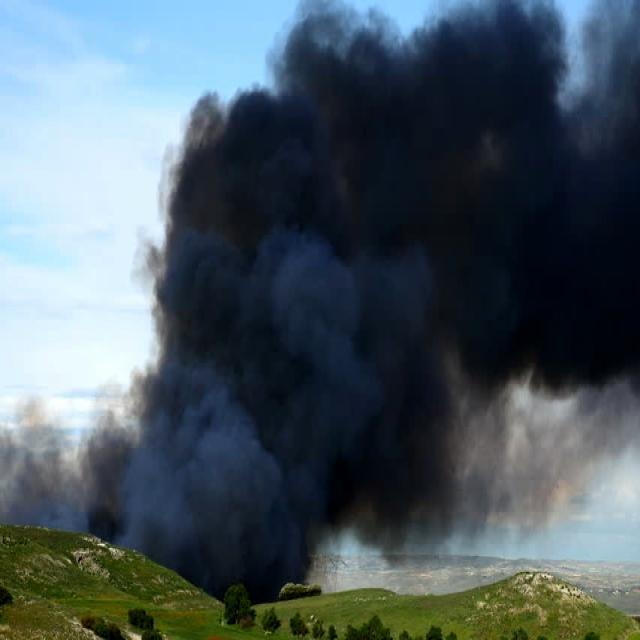Smoke: (82, 0, 640, 545)
